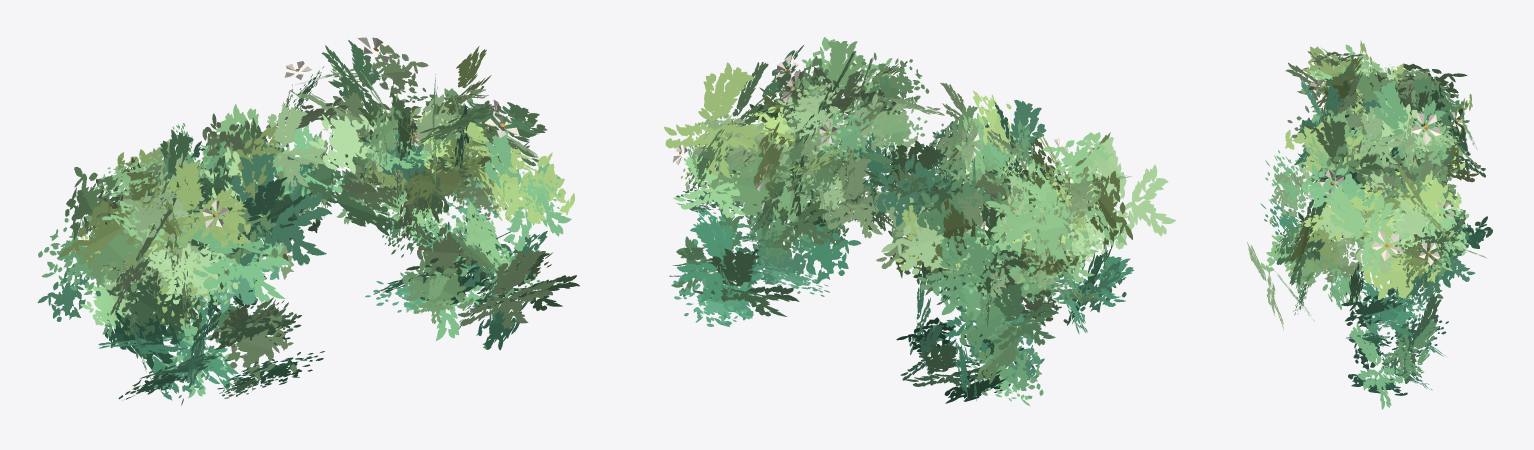
The model's file is Hedge_02_Flower_White_LOD1.glb.
The picture shows the model from 3 angles, left to right: view 1: azimuth 30°, elevation 25°; view 2: azimuth 150°, elevation 25°; view 3: azimuth 270°, elevation 25°; orthographic projection. The views are drawn at different scales.
Visible parts, largest first — view 1: Hedge_02_Flower_White_LOD1; view 2: Hedge_02_Flower_White_LOD1; view 3: Hedge_02_Flower_White_LOD1.
Boxes of the visible parts, <box> form: Hedge_02_Flower_White_LOD1: <box>37,37,579,405</box>; Hedge_02_Flower_White_LOD1: <box>664,37,1176,405</box>; Hedge_02_Flower_White_LOD1: <box>1247,40,1492,409</box>.
Bounding box in the file's own units: 2.88 × 1.72 × 1.57.
Materials: 8 (6 with a texture image).
